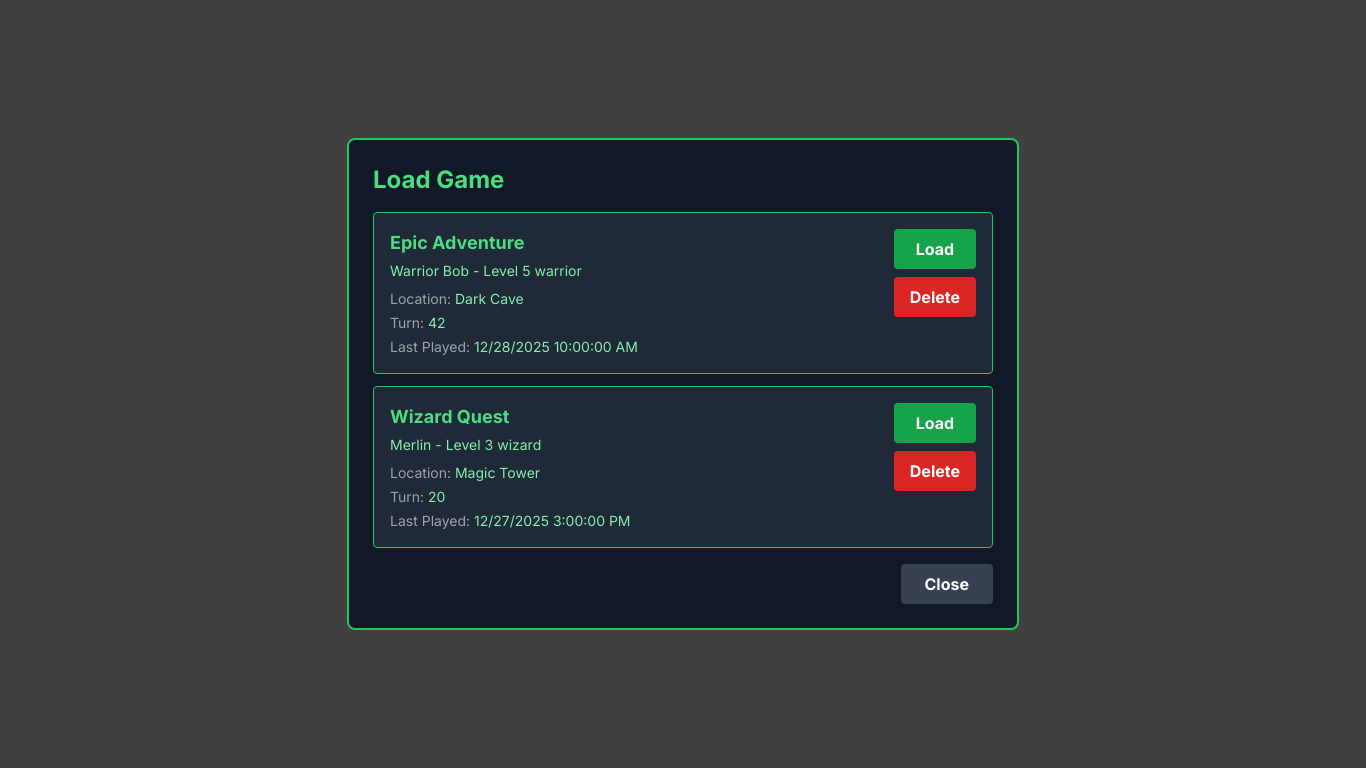
Test: LoadGameModal › should display error when load fails
The width and height of the screenshot is (1366, 768).
Expected: the heading "Epic Adventure" is shown, [390,232,524,253]
Click the button "Load" in the row of "Epic Adventure": (935, 249) [894,229,976,269]
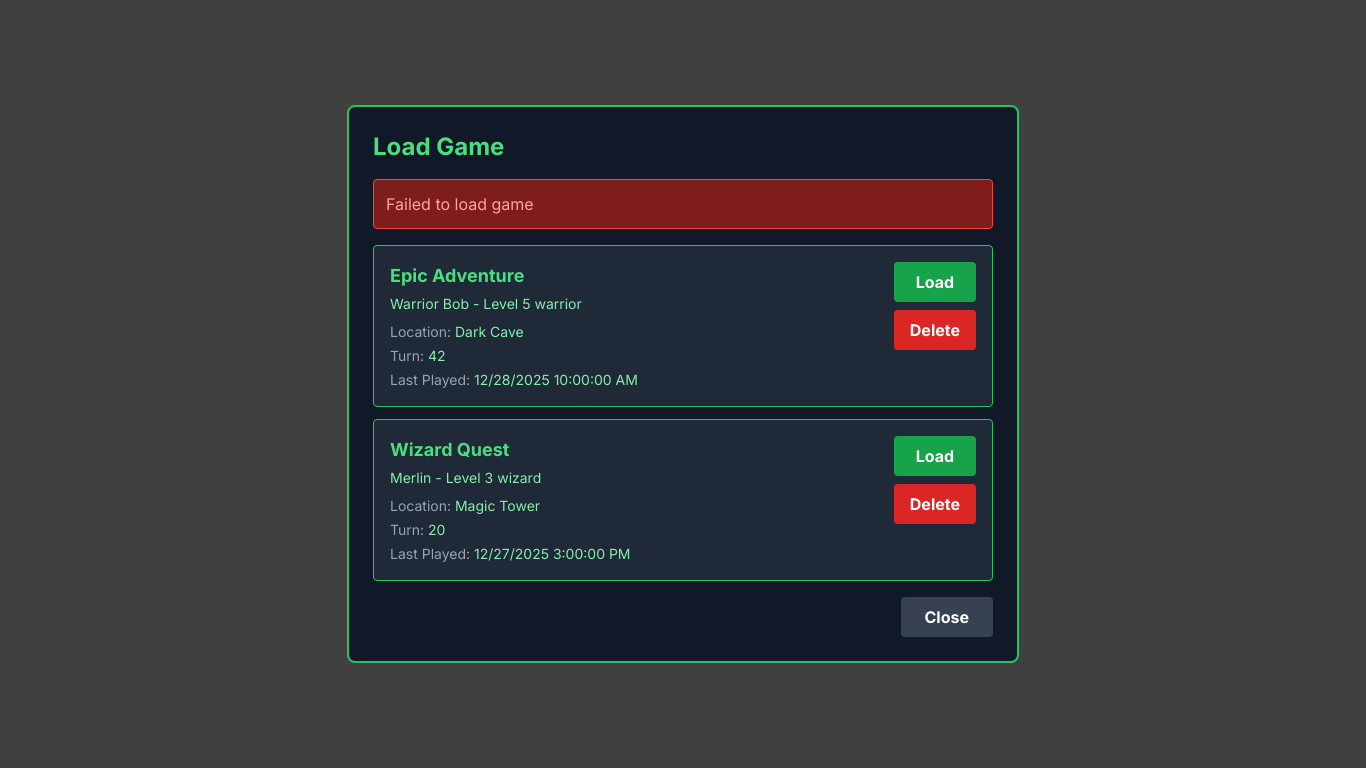
Expected: the text "Failed to load game" is shown, [386,194,534,214]
